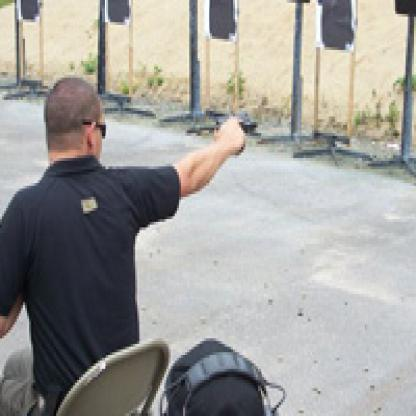gun: (208, 108, 268, 169)
